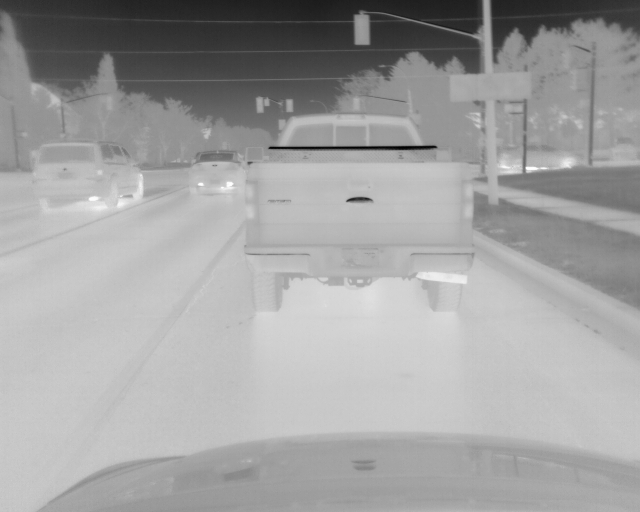car: (240, 113, 475, 313), (31, 138, 147, 213), (188, 150, 247, 196), (496, 140, 578, 170)
